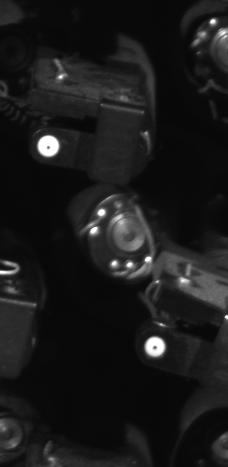fiber: (27, 130, 69, 168), (139, 326, 178, 366)
